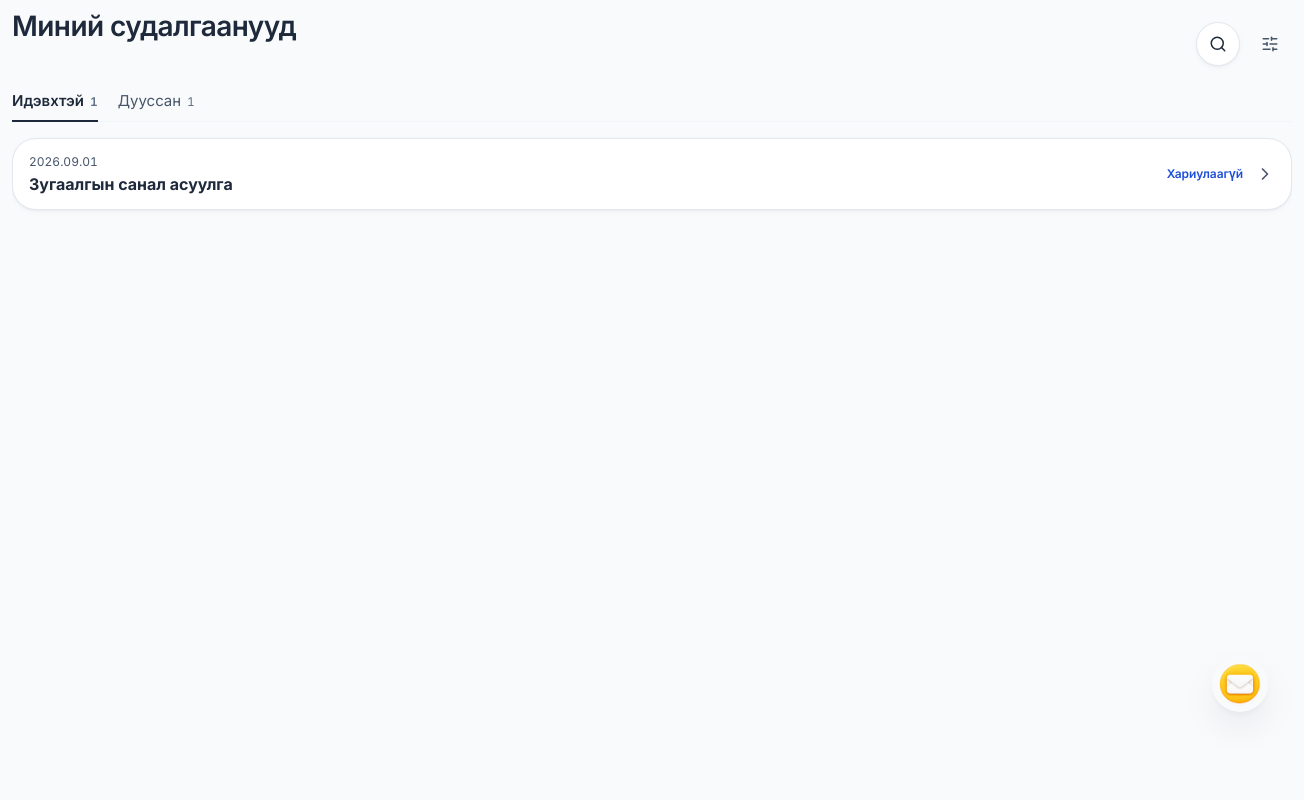
Scenario: эцэг эхийн судалгааны жагсаалт › ★ draws a minimal row — no category badge, no icon tile
The width and height of the screenshot is (1304, 800).
Click the tab "Дууссан1": (156, 102) [118,82,195,122]
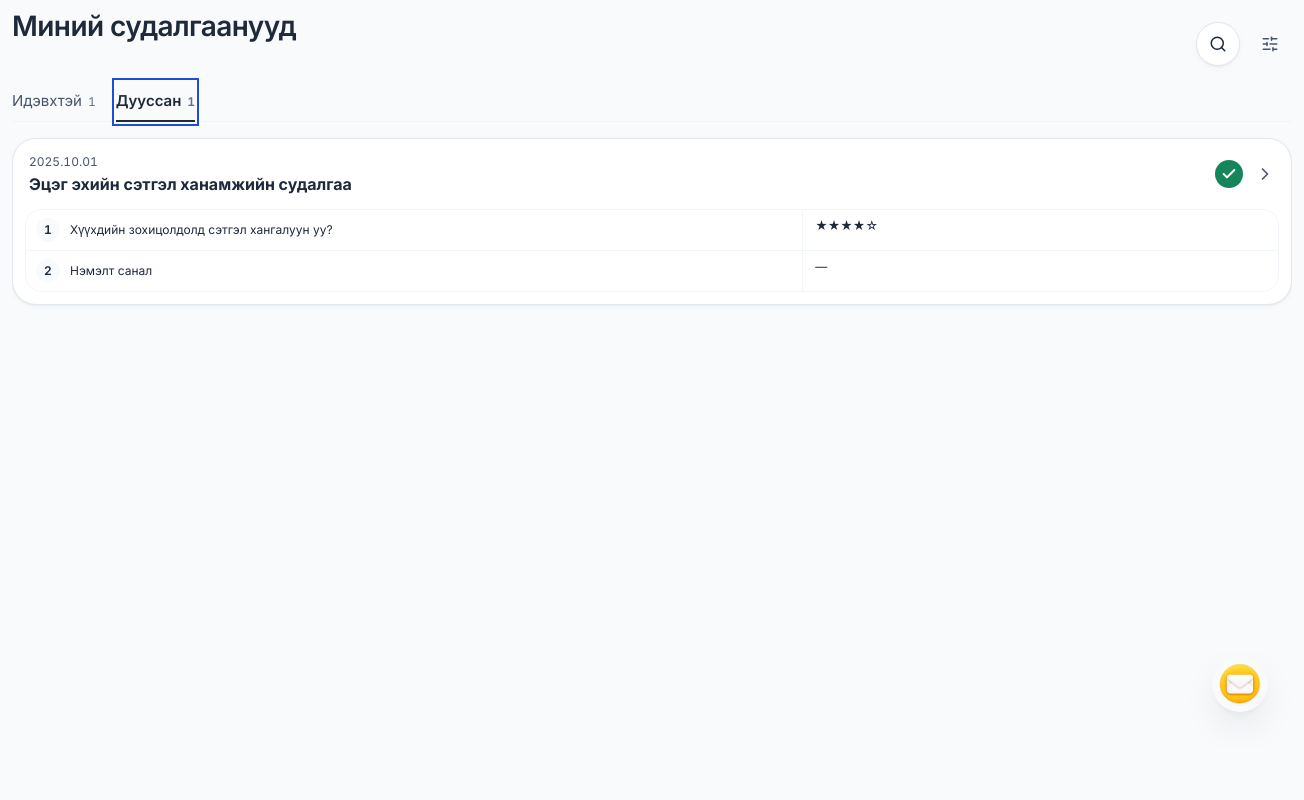
Expected: the list item "Эцэг эхийн сэтгэл ханамжийн судалгаа" does not show "2 асуулт", [12,138,1292,305]
Now the picture named "Хариулсан" is shown, box [1215,160,1243,188]
